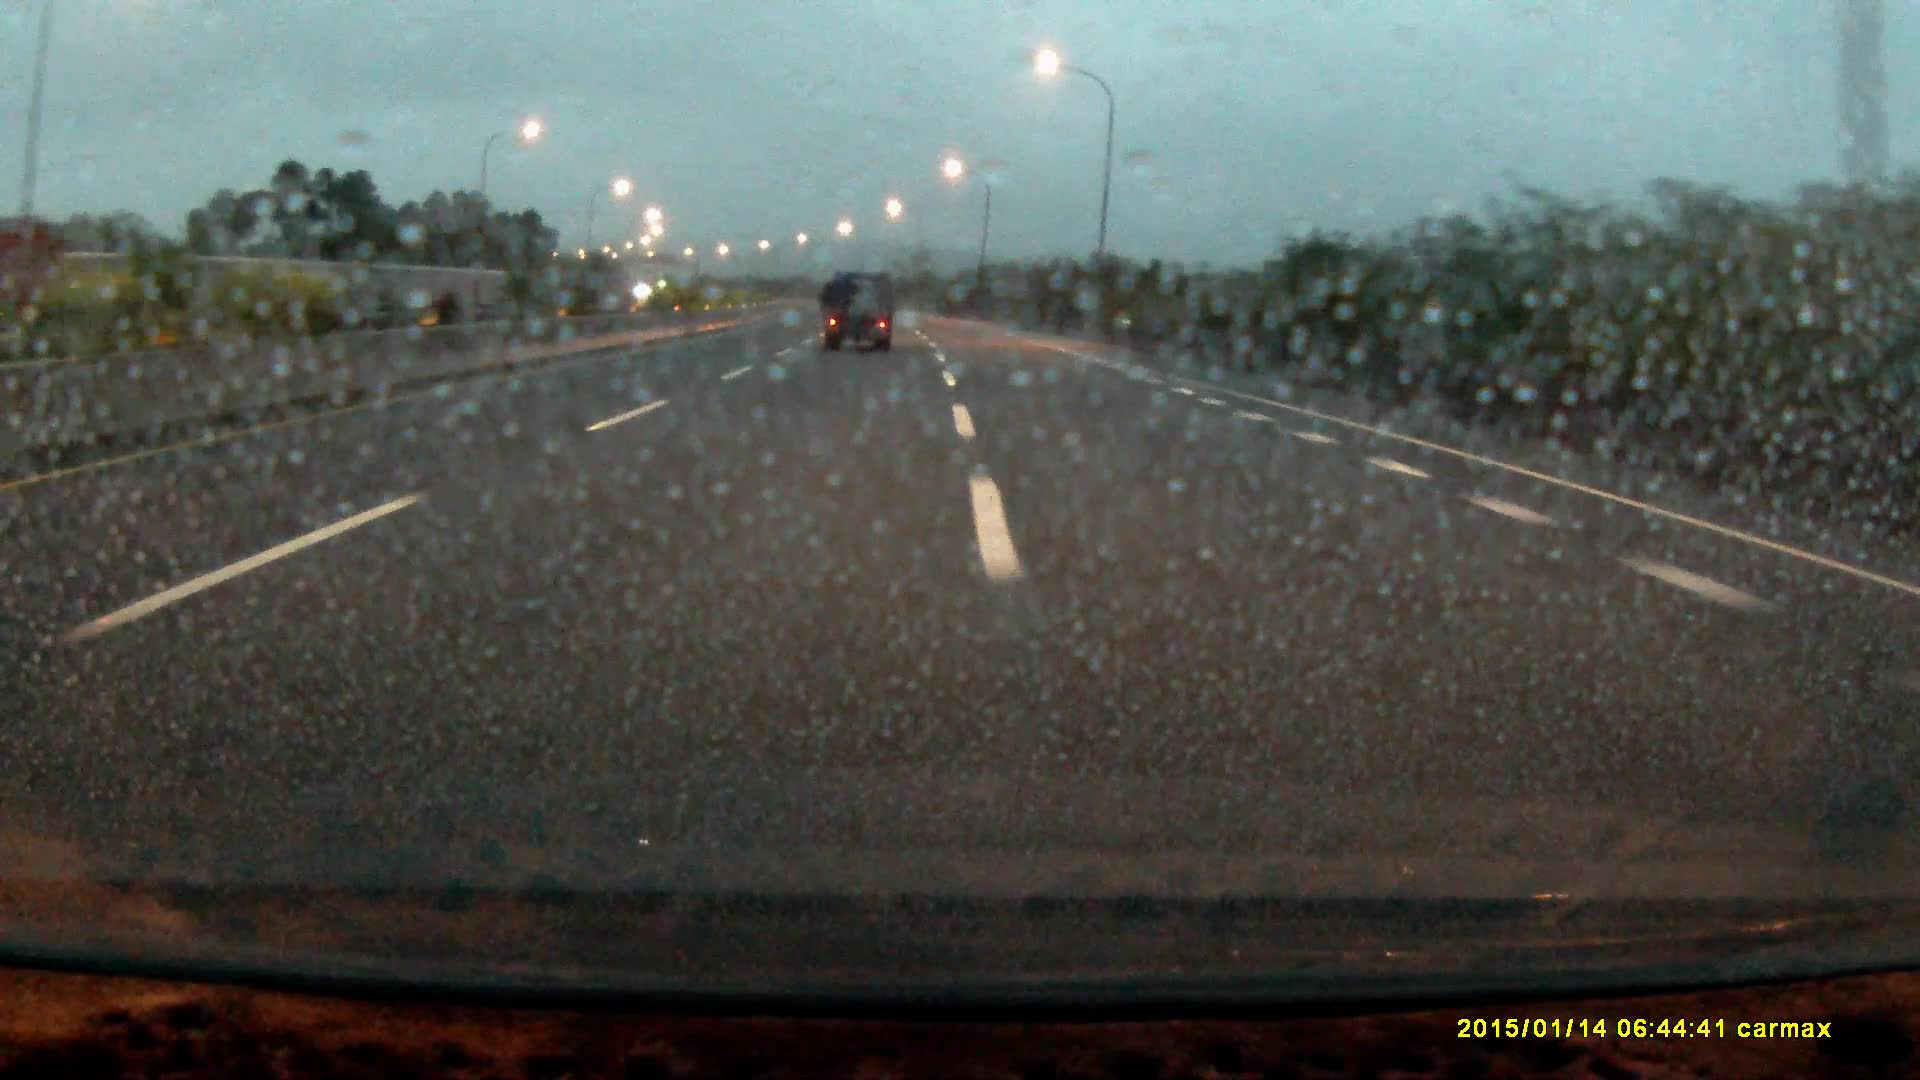vehicle: (1, 222, 78, 320), (822, 266, 897, 352)
